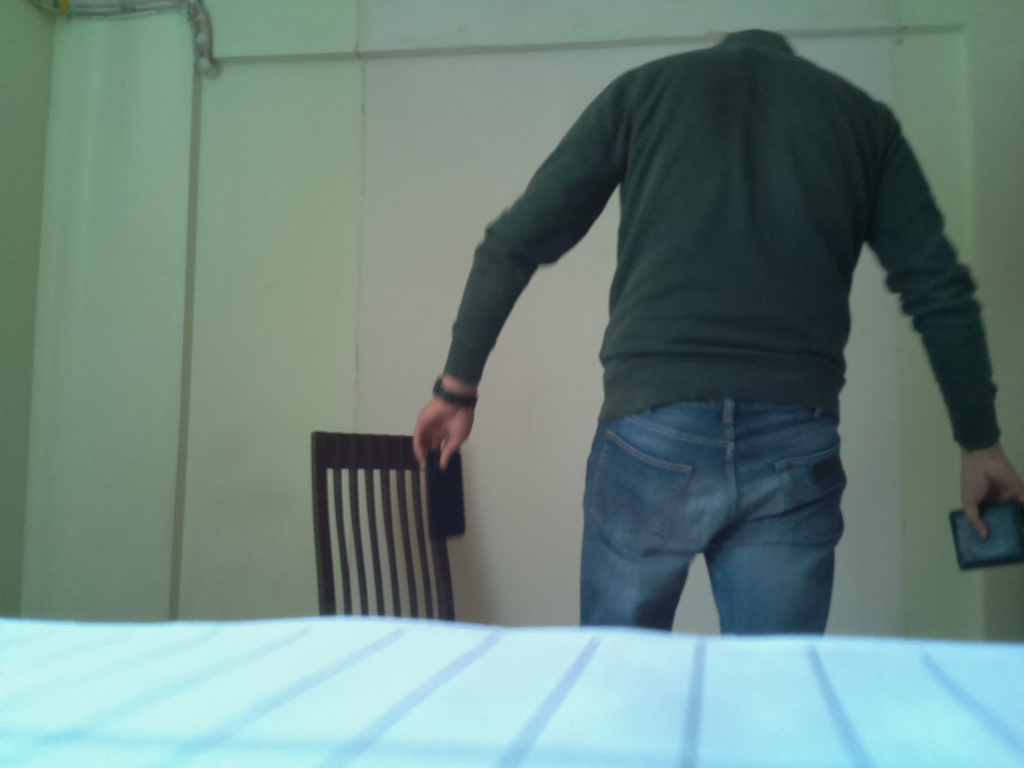none2: (942, 497, 1024, 575), (418, 450, 474, 540)
